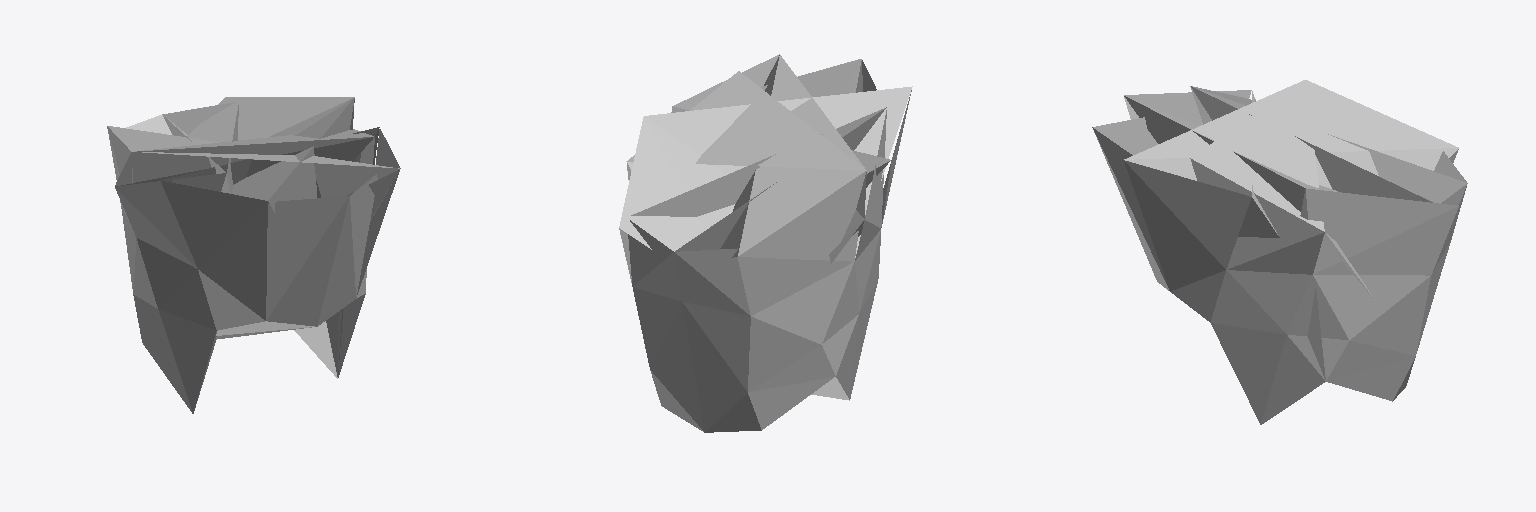
The model's file is HUmar hair2.obj.
3 renders of one model, left to right at view 1: azimuth 30°, elevation 25°; view 2: azimuth 150°, elevation 25°; view 3: azimuth 270°, elevation 25°, orthographic.
Parts seen in each view (by area): view 1: objg_plAhai01_2, objg_plAhai01_1; view 2: objg_plAhai01_1, objg_plAhai01_2; view 3: objg_plAhai01_2, objg_plAhai01_1.
Part boxes in pixels (bbox=[...]): objg_plAhai01_2: bbox=[115, 102, 400, 413]; objg_plAhai01_1: bbox=[107, 97, 399, 410]; objg_plAhai01_1: bbox=[619, 55, 912, 400]; objg_plAhai01_2: bbox=[628, 54, 911, 432]; objg_plAhai01_2: bbox=[1092, 86, 1467, 424]; objg_plAhai01_1: bbox=[1124, 80, 1466, 379].
Bounding box in the file's own units: 0.886 × 0.9533 × 1.21.